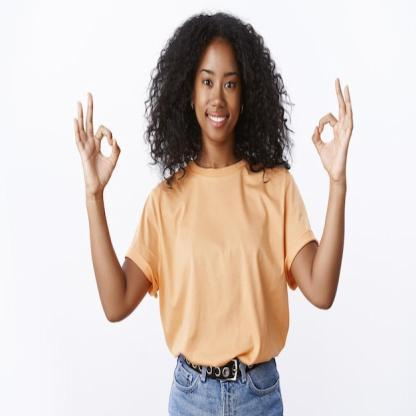ok: (72, 89, 122, 197), (308, 73, 354, 184)
